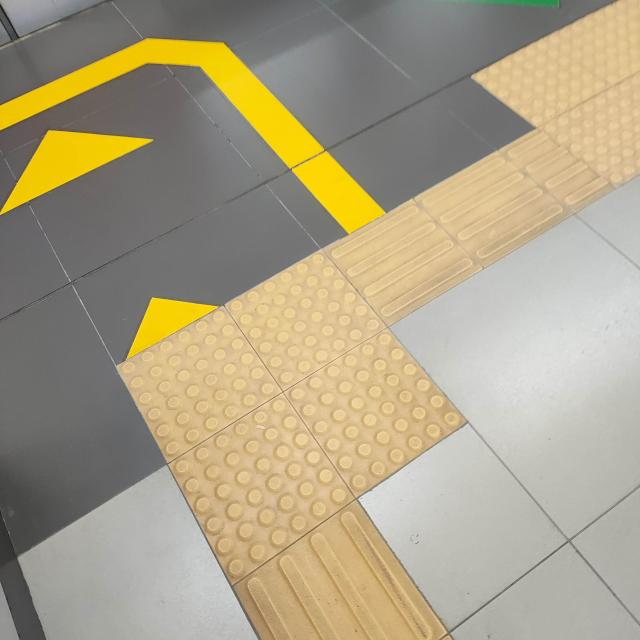kanan: (28, 218, 596, 565)
